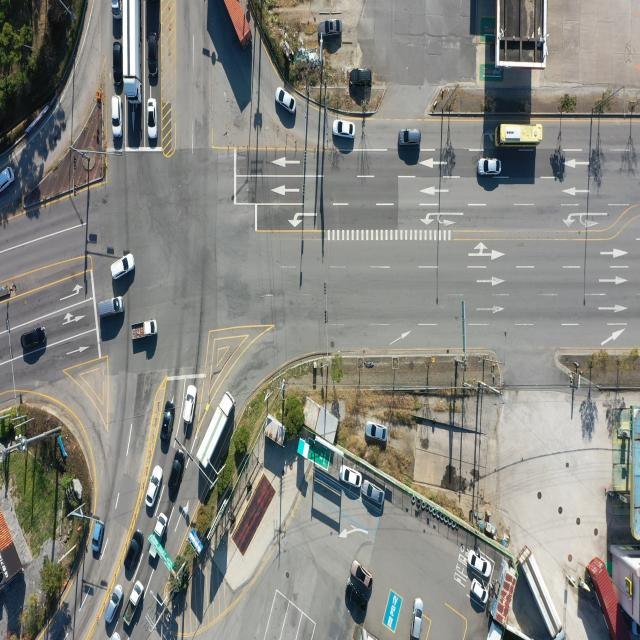car: (169, 451, 186, 502), (346, 585, 370, 616), (125, 533, 144, 571), (105, 585, 123, 624), (112, 254, 136, 283), (146, 465, 162, 507), (470, 551, 492, 578), (98, 297, 125, 319), (352, 562, 373, 589), (160, 407, 172, 452), (22, 329, 46, 351), (341, 464, 363, 488), (363, 482, 384, 507), (276, 89, 296, 115), (148, 34, 158, 86), (183, 386, 196, 424), (412, 598, 423, 640), (112, 40, 122, 86), (92, 518, 105, 553), (472, 580, 490, 605), (364, 422, 387, 441), (478, 159, 502, 177), (110, 94, 120, 136), (0, 168, 15, 195), (147, 98, 157, 138), (334, 119, 356, 137), (352, 67, 373, 85), (400, 130, 422, 147), (322, 19, 342, 37), (114, 41, 122, 86)
large_bus: (495, 124, 541, 147)
large_truck: (224, 0, 253, 47)
medium_truck: (524, 547, 566, 638), (197, 388, 236, 471), (125, 0, 142, 99)
small_truck: (147, 513, 169, 565), (127, 578, 144, 622), (130, 319, 157, 340), (112, 0, 121, 20)
